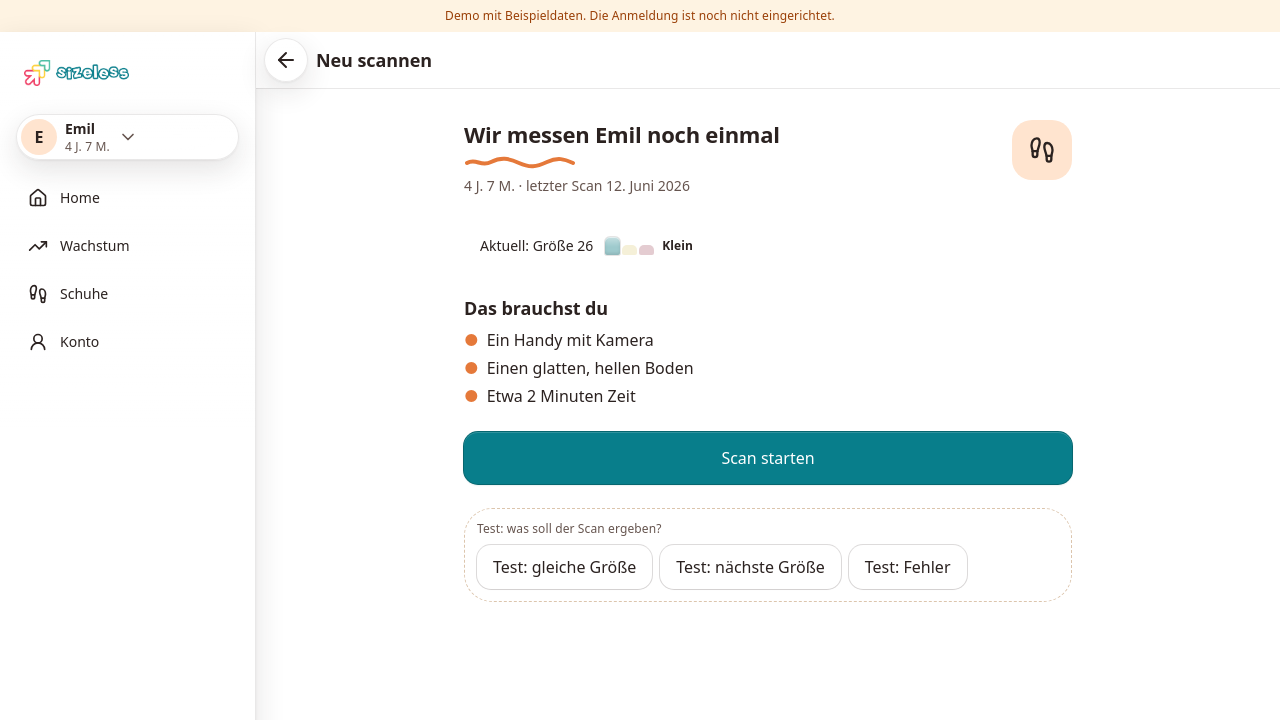
Rescan (S14) › outcome B: the next size with a buy button
Click the button "Test: nächste Größe": coordinates (751, 567) [660,545,841,589]
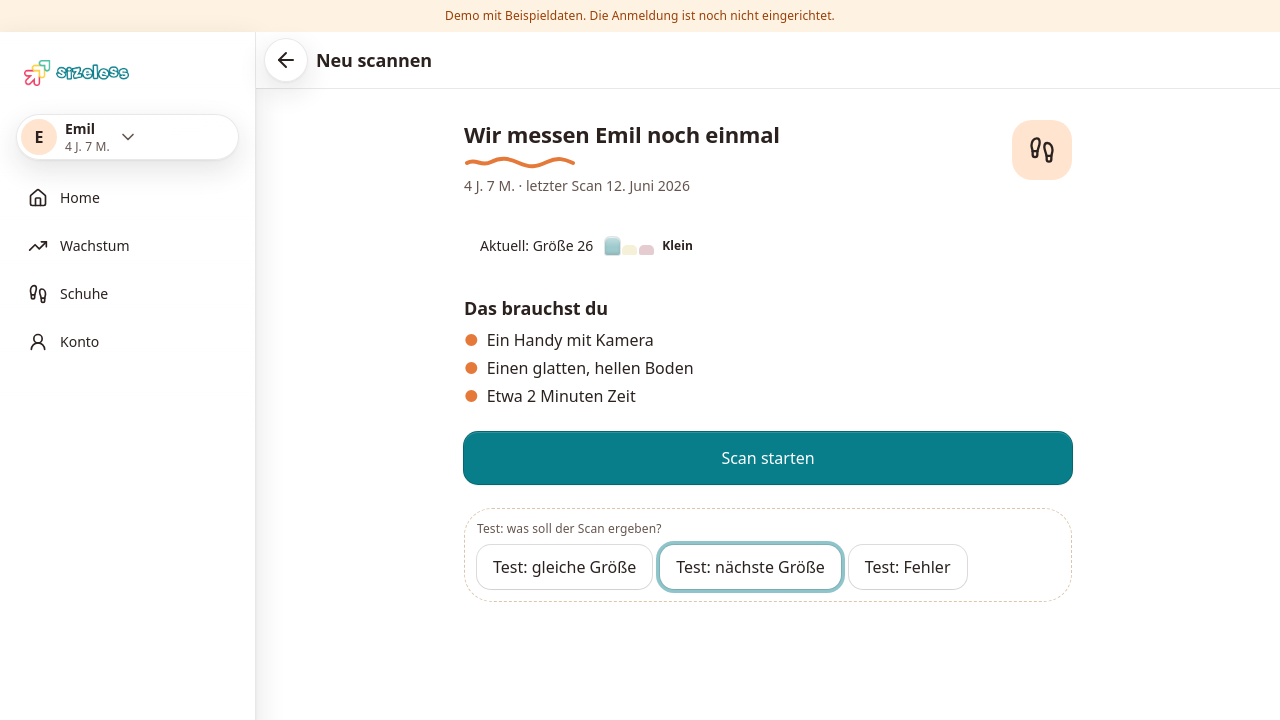
Click the button "Scan starten": coordinates (768, 458) [464,432,1072,484]
Wait 3000 ms
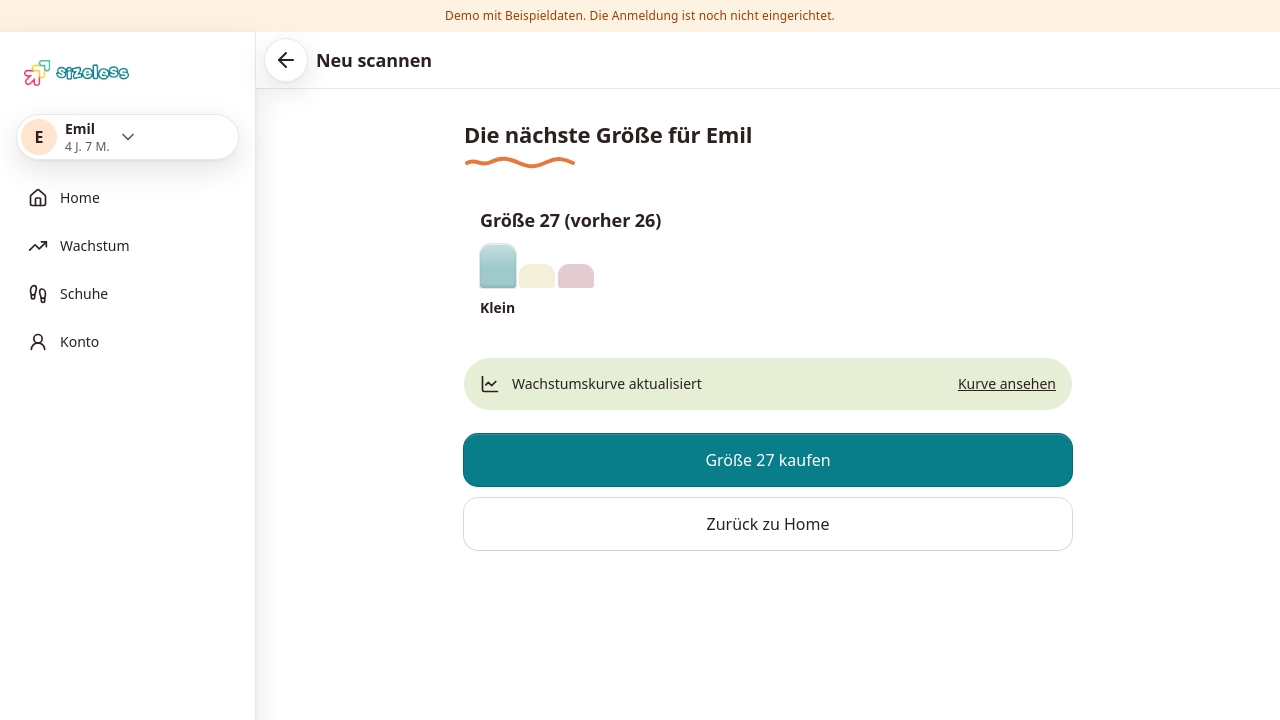
Result: the heading "Die nächste Größe für Emil" is shown at [464,119,752,168]
Result: the text "Größe 27 (vorher 26)" is shown at [480,208,661,232]
